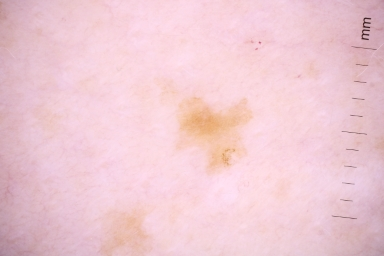nevus: (173, 100, 251, 174)
